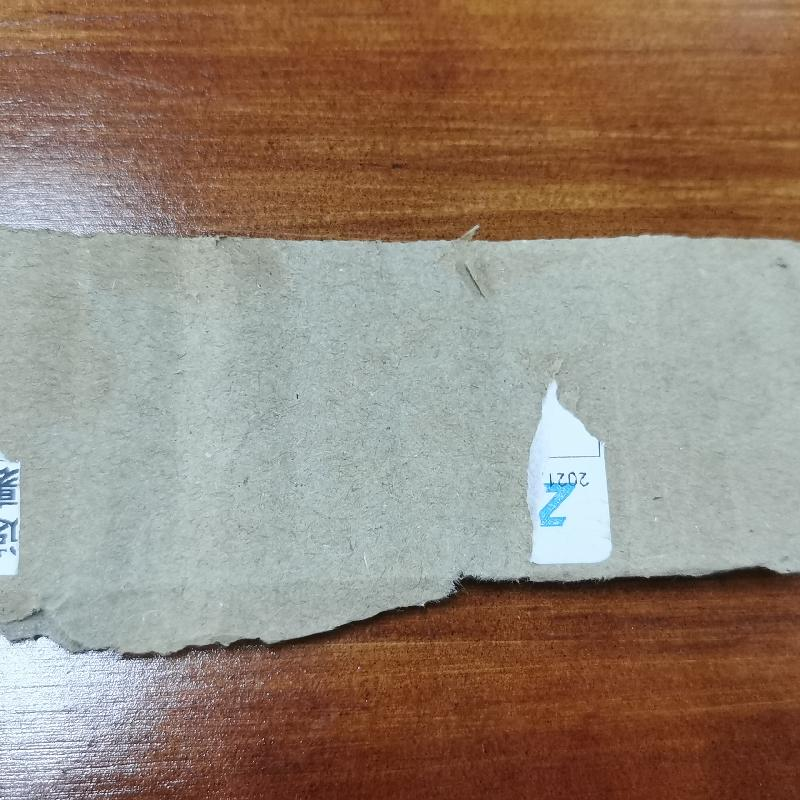boxes: (3, 216, 799, 654)
